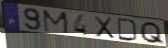4: (71, 13, 91, 37)
9: (22, 7, 43, 32)
D: (117, 17, 140, 43)
M: (42, 9, 72, 36)
Q: (139, 21, 166, 46)
X: (92, 15, 116, 40)
